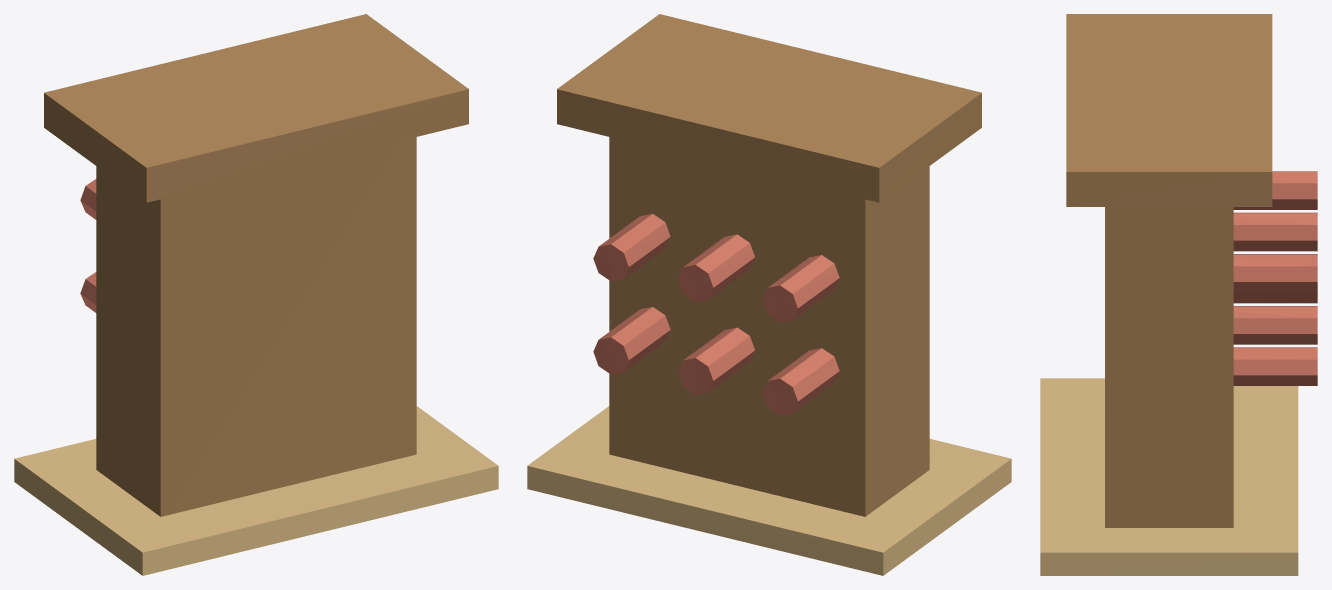
Rendered from Bee-hotel.glb.
The picture shows the model from 3 angles, left to right: view 1: azimuth 30°, elevation 25°; view 2: azimuth 150°, elevation 25°; view 3: azimuth 270°, elevation 25°; orthographic projection.
Visible parts, largest first — view 1: bee-hotel-static-bee-hotel-timber, bee-hotel-static-bee-hotel-teal, bee-hotel-static-bee-hotel-earth, bee-hotel-static-bee-hotel-flower; view 2: bee-hotel-static-bee-hotel-timber, bee-hotel-static-bee-hotel-teal, bee-hotel-static-bee-hotel-earth, bee-hotel-static-bee-hotel-flower; view 3: bee-hotel-static-bee-hotel-timber, bee-hotel-static-bee-hotel-teal, bee-hotel-static-bee-hotel-earth, bee-hotel-static-bee-hotel-flower.
Boxes of the visible parts, box(x1,y1,x2,y2) form: bee-hotel-static-bee-hotel-timber: box(96, 137, 416, 516); bee-hotel-static-bee-hotel-teal: box(44, 14, 468, 202); bee-hotel-static-bee-hotel-earth: box(14, 406, 498, 575); bee-hotel-static-bee-hotel-flower: box(80, 179, 96, 312); bee-hotel-static-bee-hotel-timber: box(609, 137, 929, 516); bee-hotel-static-bee-hotel-teal: box(557, 14, 981, 202); bee-hotel-static-bee-hotel-earth: box(527, 406, 1011, 575); bee-hotel-static-bee-hotel-flower: box(593, 213, 839, 415); bee-hotel-static-bee-hotel-timber: box(1105, 207, 1233, 527); bee-hotel-static-bee-hotel-teal: box(1066, 14, 1272, 206); bee-hotel-static-bee-hotel-earth: box(1040, 378, 1298, 575); bee-hotel-static-bee-hotel-flower: box(1233, 171, 1317, 385).
Size of the model in its own units: 1.6 by 1.7 by 1.07.
